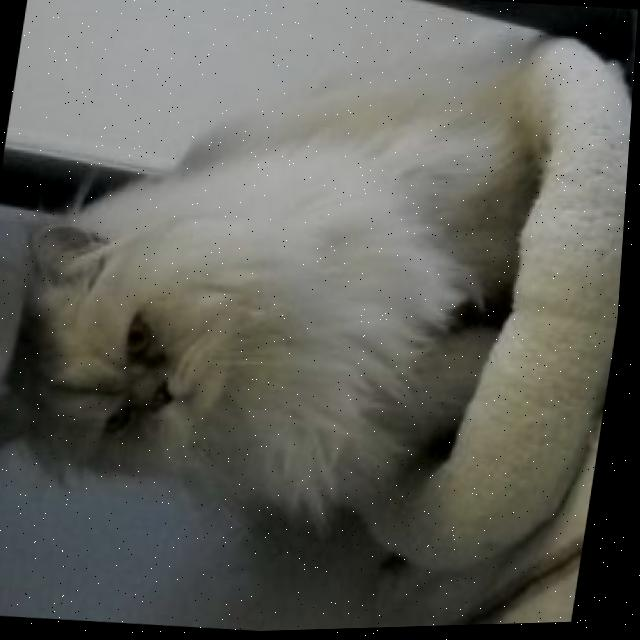Persian: (0, 11, 564, 554)
